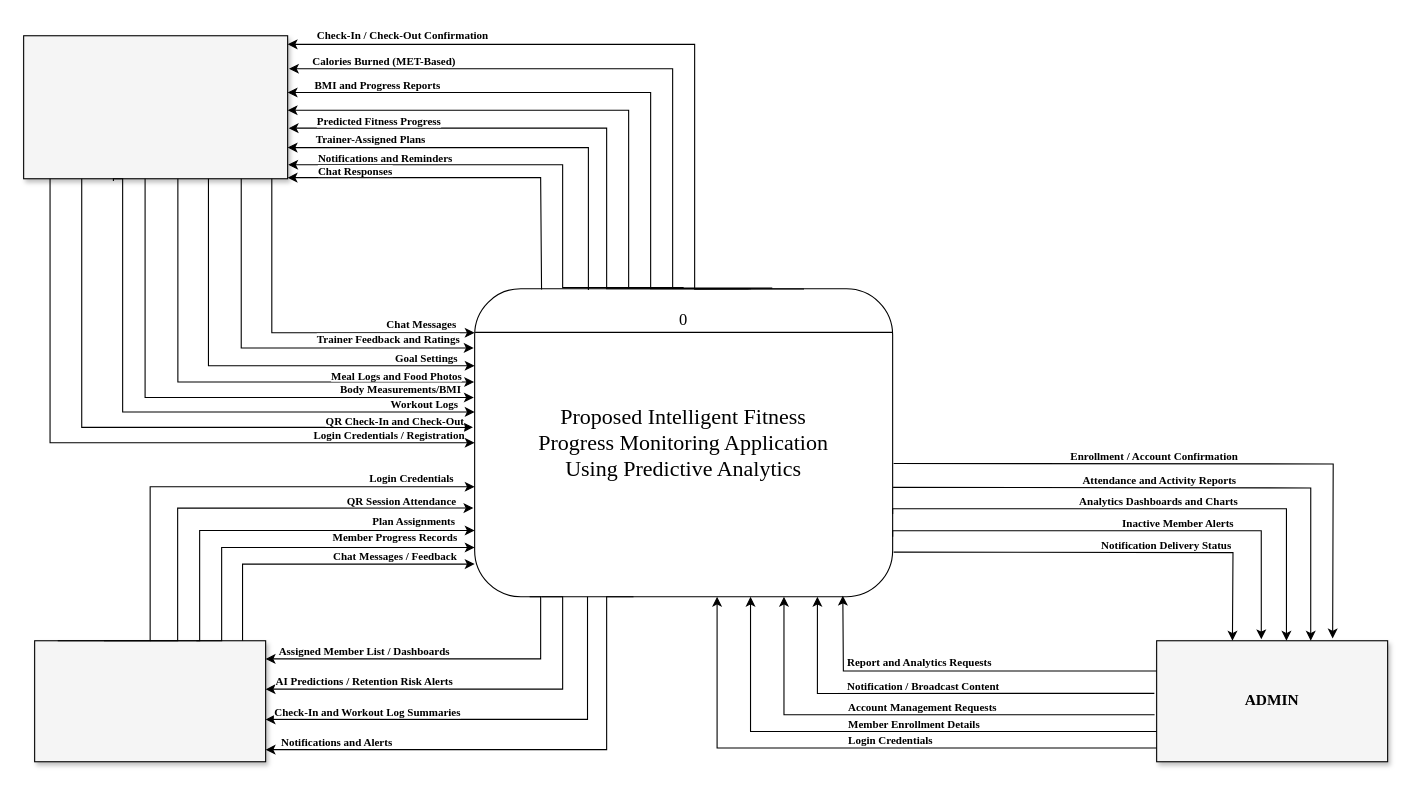
Some shapes in this 1414 by 789 pixel diagram are drawn without their labels. The centre of each missing label's shape, as x and y in pixels:
"MEMBER" goes at (156,108).
"TRAINER" goes at (150,702).
